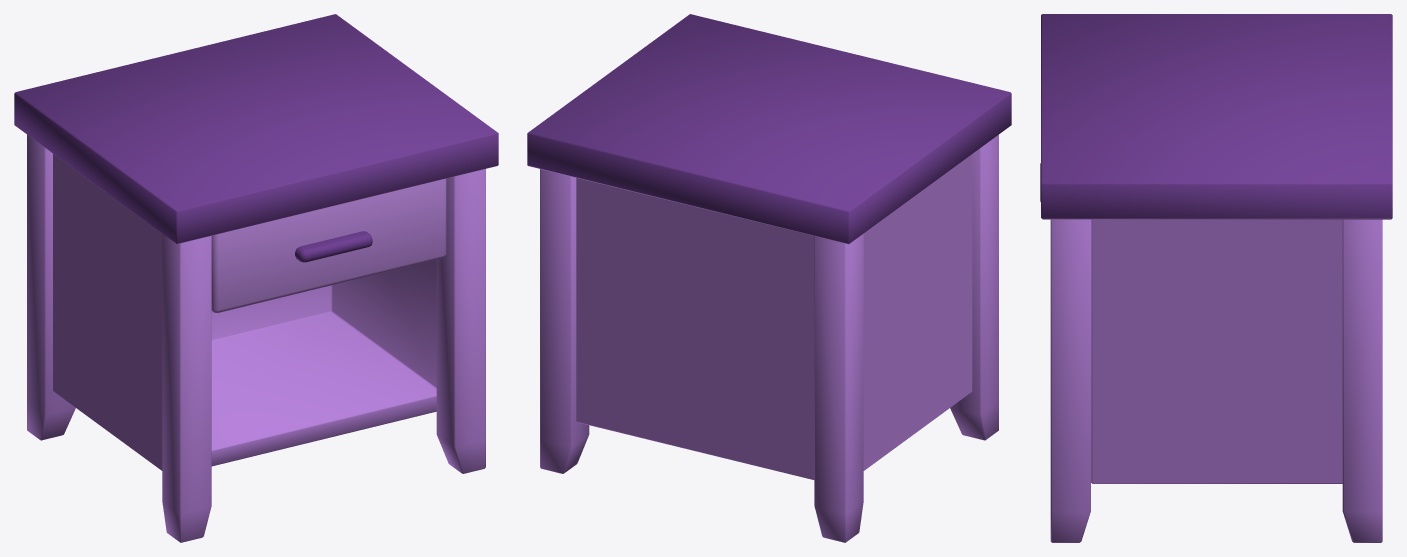
Rendered from Side table mother .fbx.
The picture shows the model from 3 angles, left to right: view 1: azimuth 30°, elevation 25°; view 2: azimuth 150°, elevation 25°; view 3: azimuth 270°, elevation 25°; orthographic projection. The views are drawn at different scales.
Parts seen in each view (by area): view 1: wooden_end_table_wooden_end_table_mat_0.001, wooden_end_table_wooden_end_table_mat_0.003; view 2: wooden_end_table_wooden_end_table_mat_0.001; view 3: wooden_end_table_wooden_end_table_mat_0.001.
Part boxes in pixels (x1,y1,x2,y2): wooden_end_table_wooden_end_table_mat_0.001: (14, 14, 498, 542); wooden_end_table_wooden_end_table_mat_0.003: (211, 178, 446, 312); wooden_end_table_wooden_end_table_mat_0.001: (527, 14, 1011, 542); wooden_end_table_wooden_end_table_mat_0.001: (1041, 14, 1392, 542).
Size of the model in its own units: 80 by 80 by 70.13.
Materials: 1 (1 with a texture image).
